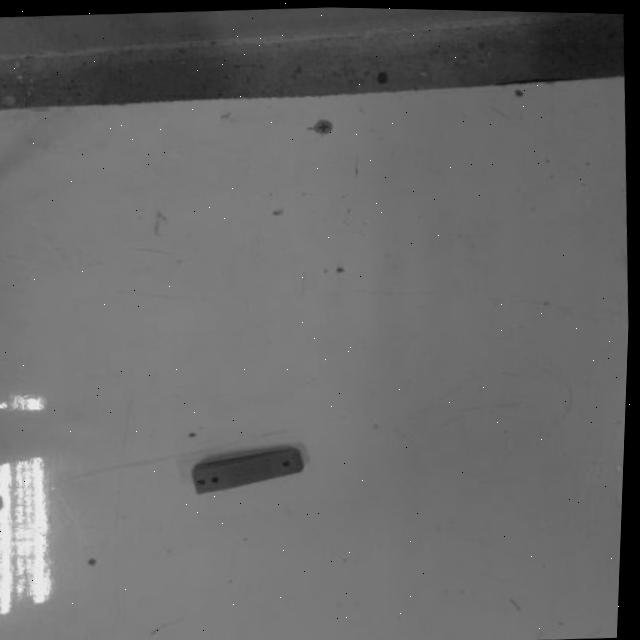grey: (187, 442, 310, 497)
head: (281, 458, 291, 466)
